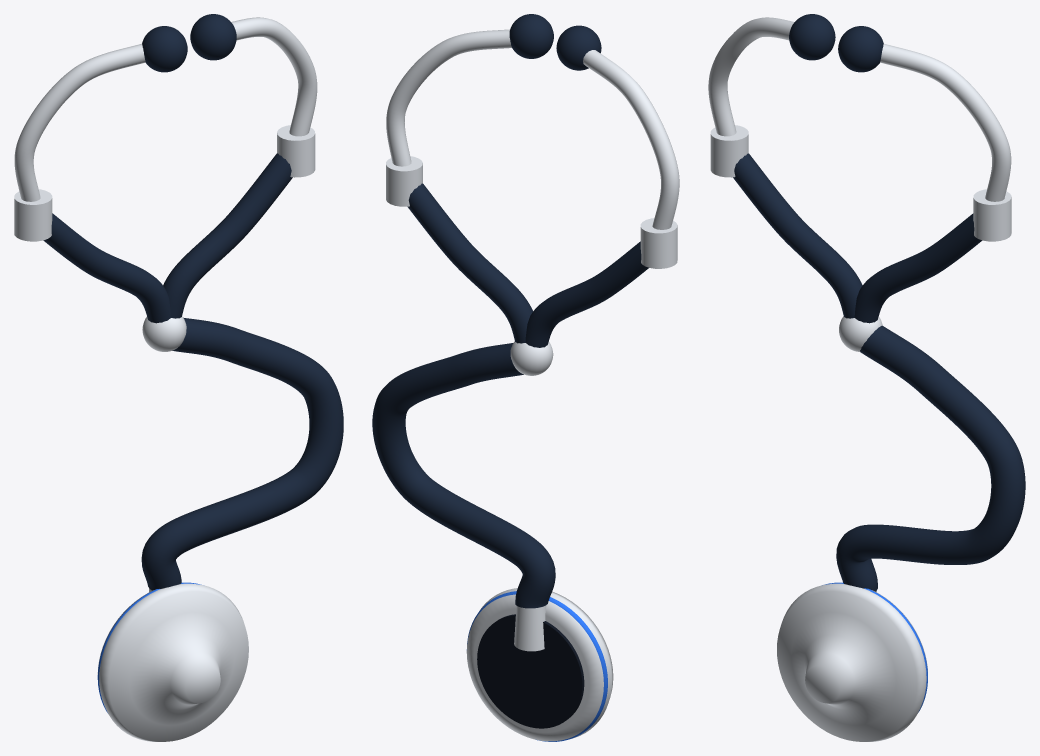
Rendered from stethoscope.glb.
3 views of the same model, side by side, from view 1: azimuth 30°, elevation 25°; view 2: azimuth 150°, elevation 25°; view 3: azimuth 330°, elevation 25° (orthographic). The views are drawn at different scales.
Bounding box in the file's own units: 1.56 × 3.4 × 0.4191.
